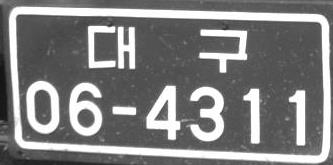0: (25, 78, 60, 134)
1: (236, 87, 270, 144), (284, 88, 316, 145)
3: (189, 84, 225, 141)
4: (145, 83, 180, 139)
6: (68, 80, 103, 136)
대구_D: (87, 24, 247, 73)
